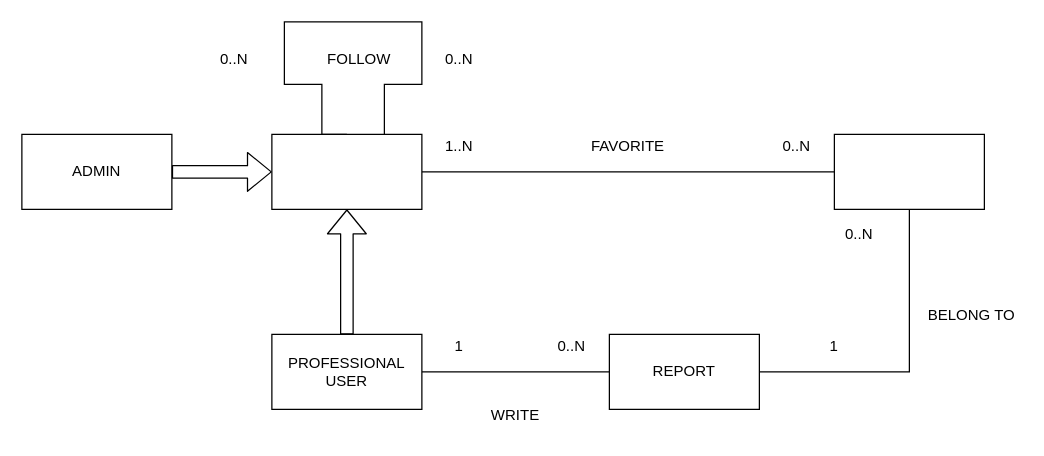
The diagram is 1044 pixels wide and 456 high, and some of its shapes have lost their labels. Here are the shapes that lost their labels. From the top down, the centre of each, then its label:
point (346, 171): USERS
point (908, 171): COMPANY
